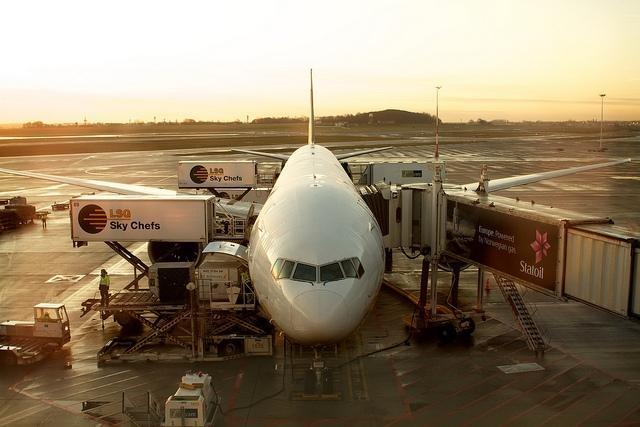truck: (0, 303, 71, 368), (167, 369, 226, 427)
